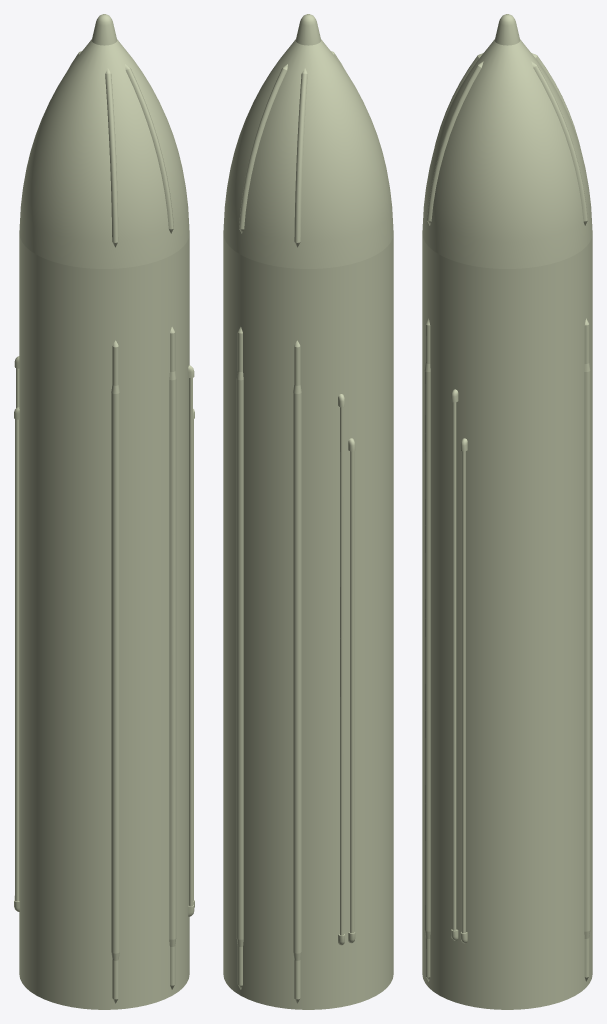
File: RLV_1_Nose_1.obj
3 renders of one model, left to right at view 1: azimuth 30°, elevation 25°; view 2: azimuth 150°, elevation 25°; view 3: azimuth 270°, elevation 25°, orthographic.
Parts seen in each view (by area): view 1: RLV_1_LFO_1, RLV_1_Nose_1_sep4; view 2: RLV_1_LFO_1, RLV_1_Nose_1_sep4; view 3: RLV_1_LFO_1, RLV_1_Nose_1_sep4.
Boxes of the visible parts, x1,y1,x2,y2 form: RLV_1_LFO_1: (14, 234, 194, 1009); RLV_1_Nose_1_sep4: (19, 14, 189, 268); RLV_1_LFO_1: (223, 234, 393, 1009); RLV_1_Nose_1_sep4: (223, 14, 393, 268); RLV_1_LFO_1: (422, 234, 592, 1009); RLV_1_Nose_1_sep4: (422, 14, 592, 268).
Size of the model in its own units: 5 by 31.07 by 5.
